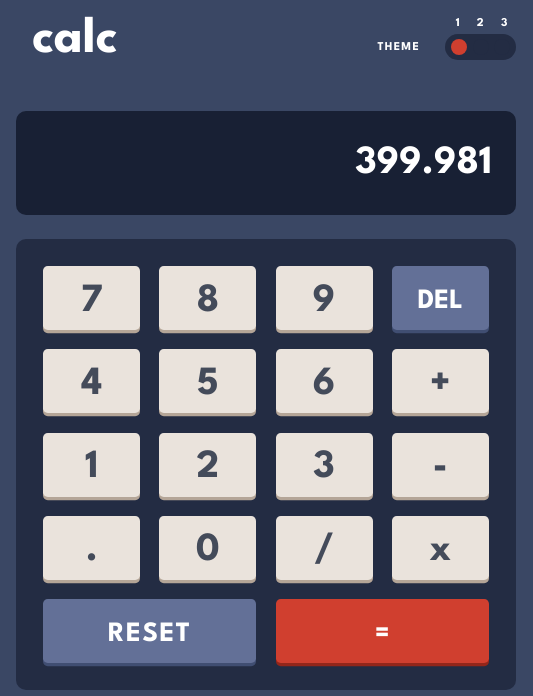
Scenario: App › resetValue sets value to "0"
Click the button "reset" at x=150, y=631, box x1=43 y1=599 x2=256 y2=663
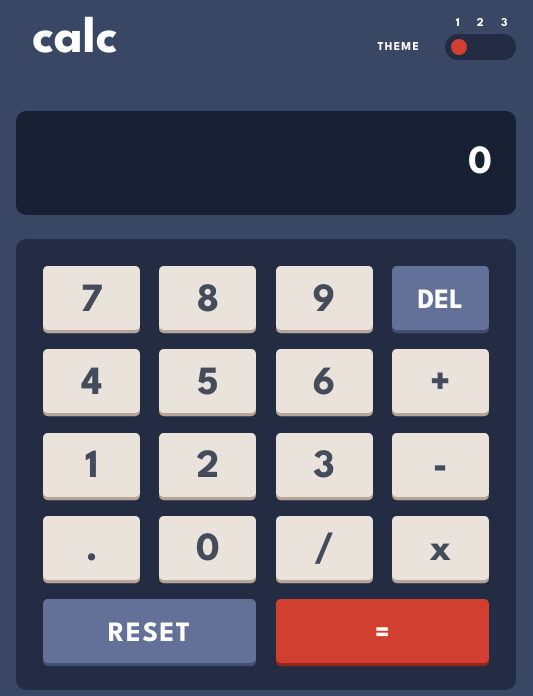
Check: the text with test id "calc-display" reads "0", box x1=468 y1=144 x2=492 y2=182
